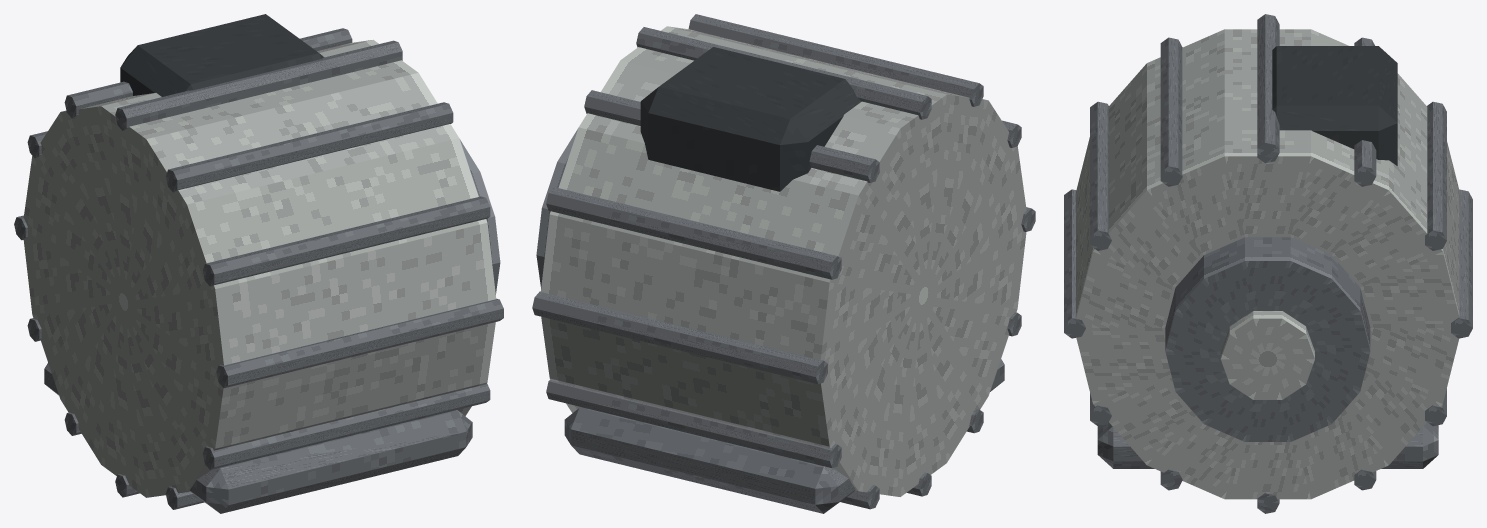
File: alternator_truck.glb
3 views of the same model, side by side, from view 1: azimuth 30°, elevation 25°; view 2: azimuth 150°, elevation 25°; view 3: azimuth 270°, elevation 25° (orthographic). The views are drawn at different scales.
Parts seen in each view (by area): view 1: block_vented cast body, block_cooling rib (×6), block_mounting foot, block_terminal block, block_drive pulley; view 2: block_vented cast body, block_cooling rib (×7), block_terminal block, block_mounting foot, block_drive pulley; view 3: block_vented cast body, block_drive pulley, block_cooling rib (×7), block_terminal block, block_hub centre, block_mounting foot.
Part boxes in pixels (bbox=[...]): block_vented cast body: bbox=[23, 39, 496, 497]; block_cooling rib (×6): bbox=[64, 28, 503, 469]; block_mounting foot: bbox=[44, 363, 472, 513]; block_terminal block: bbox=[120, 14, 324, 96]; block_drive pulley: bbox=[459, 139, 500, 294]; block_vented cast body: bbox=[540, 26, 1026, 496]; block_cooling rib (×7): bbox=[532, 14, 983, 509]; block_terminal block: bbox=[640, 47, 861, 191]; block_mounting foot: bbox=[564, 359, 1004, 513]; block_drive pulley: bbox=[536, 128, 578, 288]; block_vented cast body: bbox=[1076, 29, 1459, 499]; block_drive pulley: bbox=[1165, 237, 1370, 441]; block_cooling rib (×7): bbox=[1064, 14, 1472, 338]; block_terminal block: bbox=[1272, 46, 1397, 165]; block_hub centre: bbox=[1220, 311, 1314, 399]; block_mounting foot: bbox=[1097, 422, 1438, 468].
Bounding box in the file's own units: 0.2524 × 0.2755 × 0.2731.
1 material, 1 textured.
